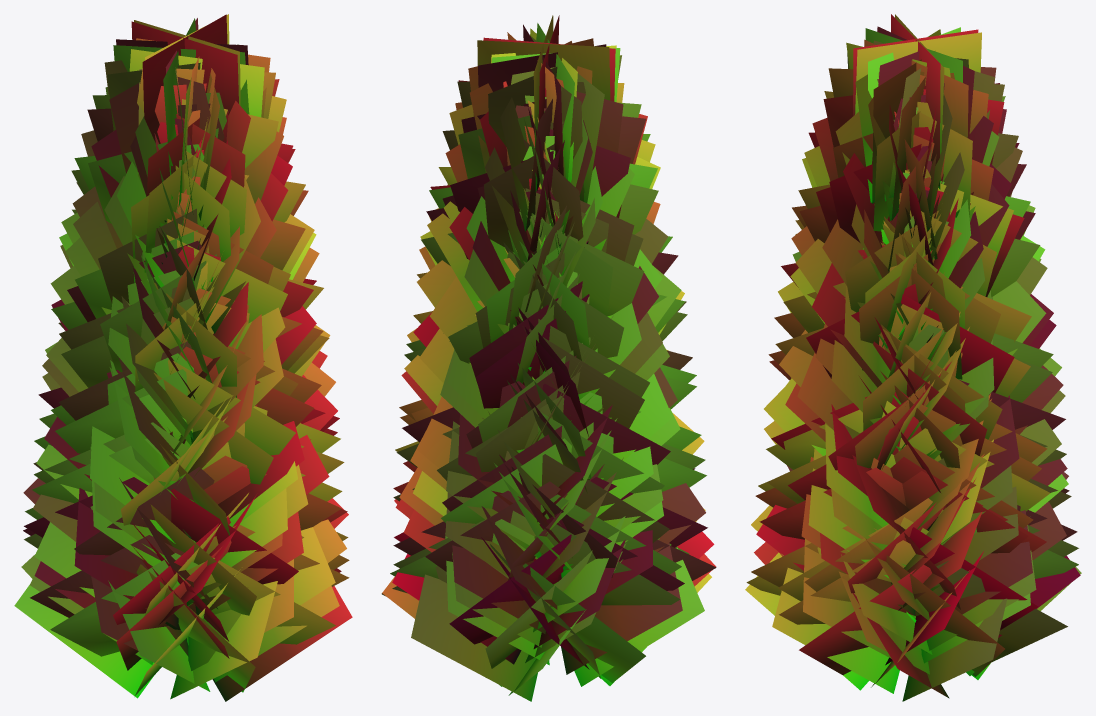
File: URP_P4_Tree_7_LOD_0.fbx
3 renders of one model, left to right at view 1: azimuth 30°, elevation 25°; view 2: azimuth 150°, elevation 25°; view 3: azimuth 270°, elevation 25°, orthographic.
Visible parts, largest first — view 1: Tree_7_LOD_0; view 2: Tree_7_LOD_0; view 3: Tree_7_LOD_0.
Part boxes in pixels (left/top/right/bottom): Tree_7_LOD_0: left=14, top=14, right=352, bottom=701; Tree_7_LOD_0: left=381, top=15, right=716, bottom=701; Tree_7_LOD_0: left=745, top=14, right=1081, bottom=701.
Bounding box in the file's own units: 214 × 447 × 214.
